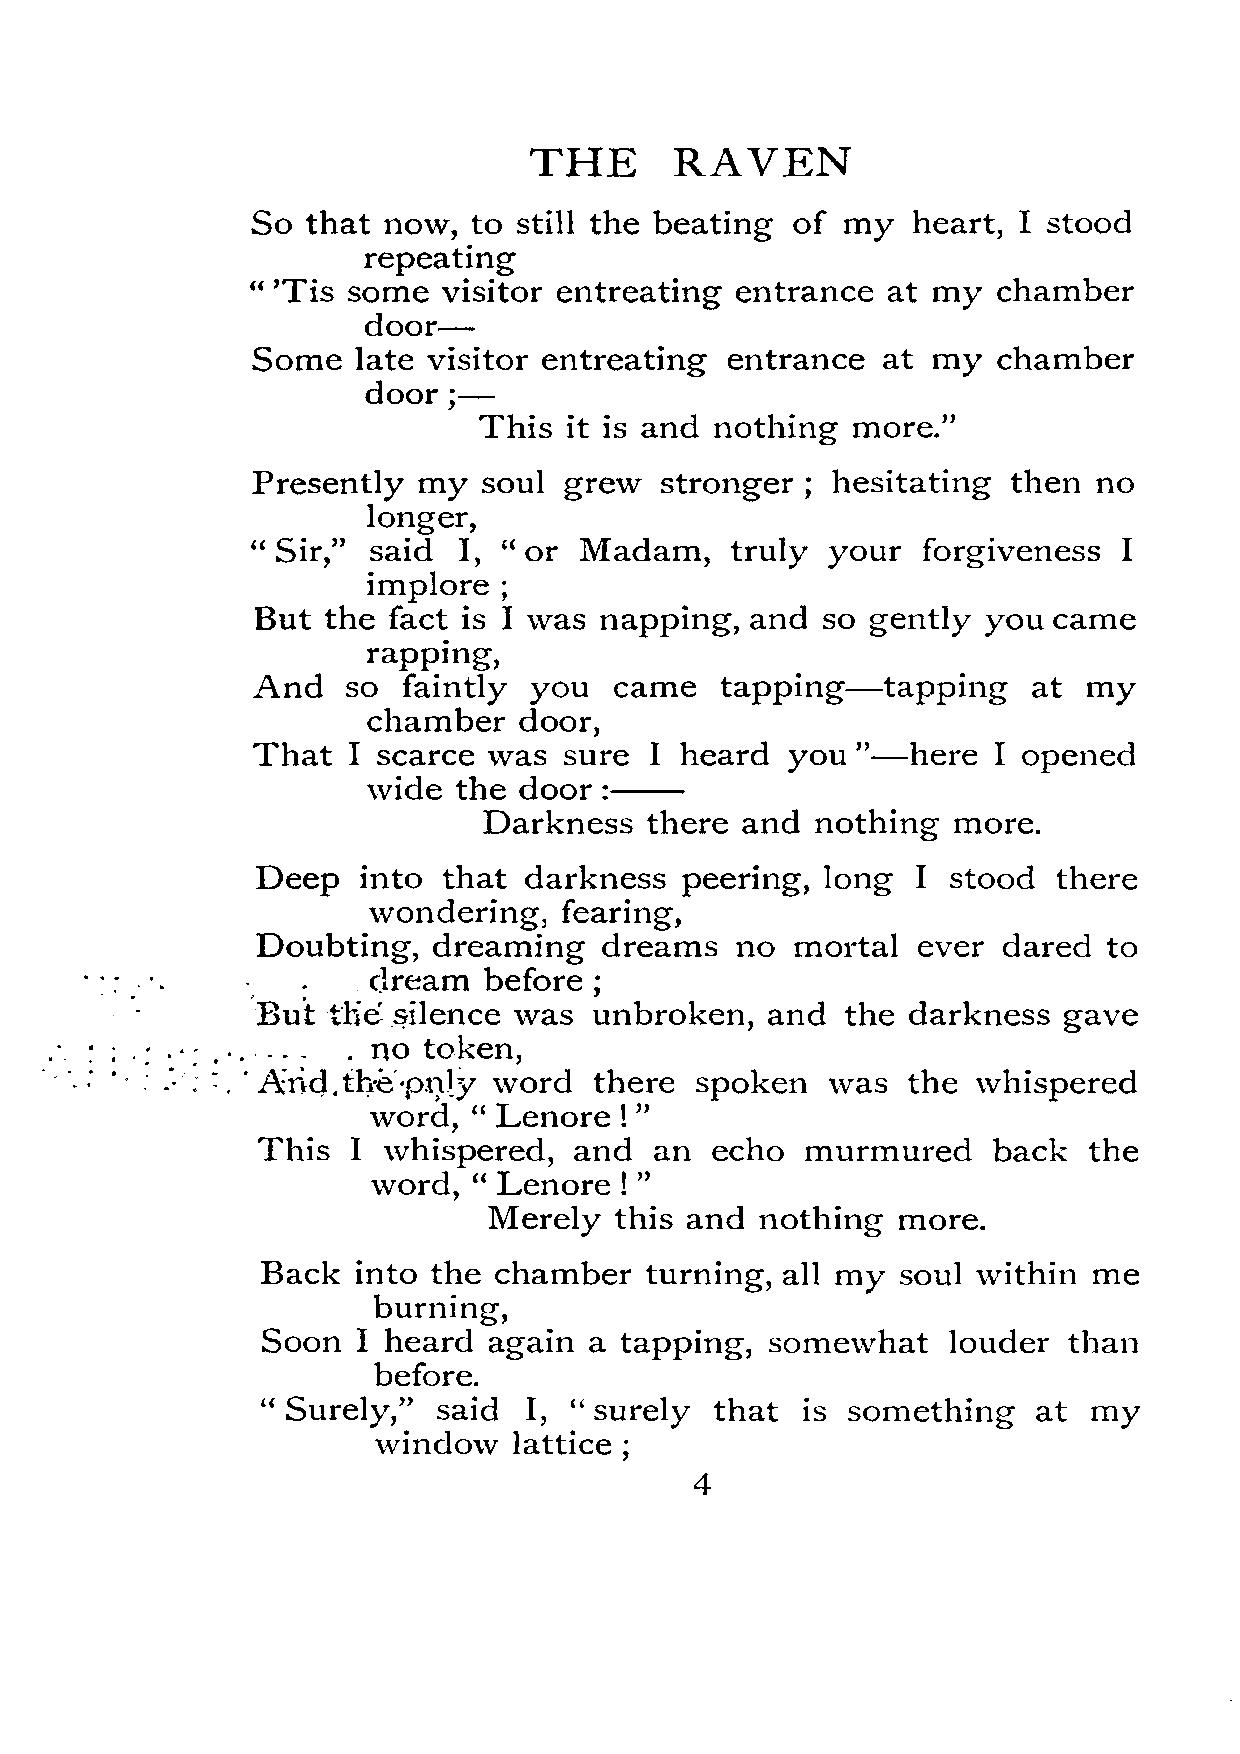chapter: (523, 141, 851, 178)
content: (246, 207, 1143, 1461)
content_pagenumber: (687, 1465, 717, 1503)
